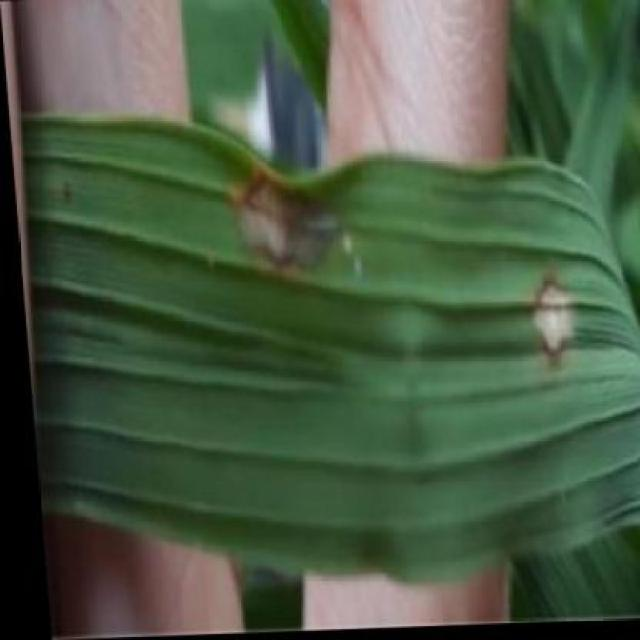Bacterial_Leaf_Blight: (208, 170, 374, 332), (489, 261, 608, 404)
